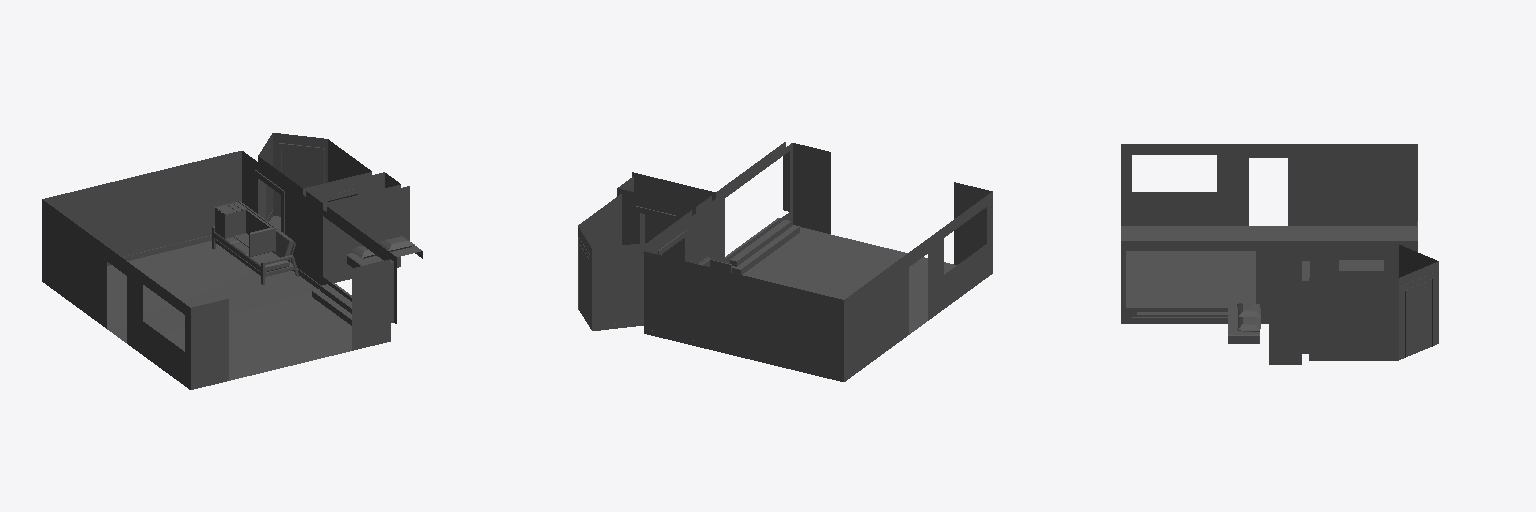
Rendered from entrance001.obj.
3 renders of one model, left to right at view 1: azimuth 30°, elevation 25°; view 2: azimuth 150°, elevation 25°; view 3: azimuth 270°, elevation 25°, orthographic.
Visible parts, largest first — view 1: polySurface461.005, polySurface429.005, polySurface465.005, polySurface450.005, computerDesk.005, polySurface280.005, polySurface281.005, polySurface459.005; view 2: polySurface461.005, polySurface465.005, polySurface429.005, polySurface450.005; view 3: polySurface461.005, polySurface465.005, polySurface429.005, polySurface450.005, polySurface459.005, polySurface377.005.
Boxes of the visible parts, x1,y1,x2,y2 form: polySurface461.005: [42, 151, 390, 389]; polySurface429.005: [107, 216, 351, 380]; polySurface465.005: [258, 133, 409, 323]; polySurface450.005: [107, 143, 362, 288]; computerDesk.005: [215, 201, 275, 256]; polySurface280.005: [214, 228, 293, 272]; polySurface281.005: [212, 226, 298, 284]; polySurface459.005: [350, 236, 414, 258]; polySurface461.005: [644, 143, 992, 381]; polySurface465.005: [578, 142, 789, 330]; polySurface429.005: [743, 227, 956, 334]; polySurface450.005: [578, 206, 693, 340]; polySurface461.005: [1121, 144, 1417, 323]; polySurface465.005: [1121, 244, 1438, 364]; polySurface429.005: [1121, 226, 1416, 307]; polySurface450.005: [1302, 221, 1432, 357]; polySurface459.005: [1237, 303, 1260, 331]; polySurface377.005: [1228, 306, 1259, 343].
Bounding box in the file's own units: 0.1184 × 0.0326 × 0.1126.